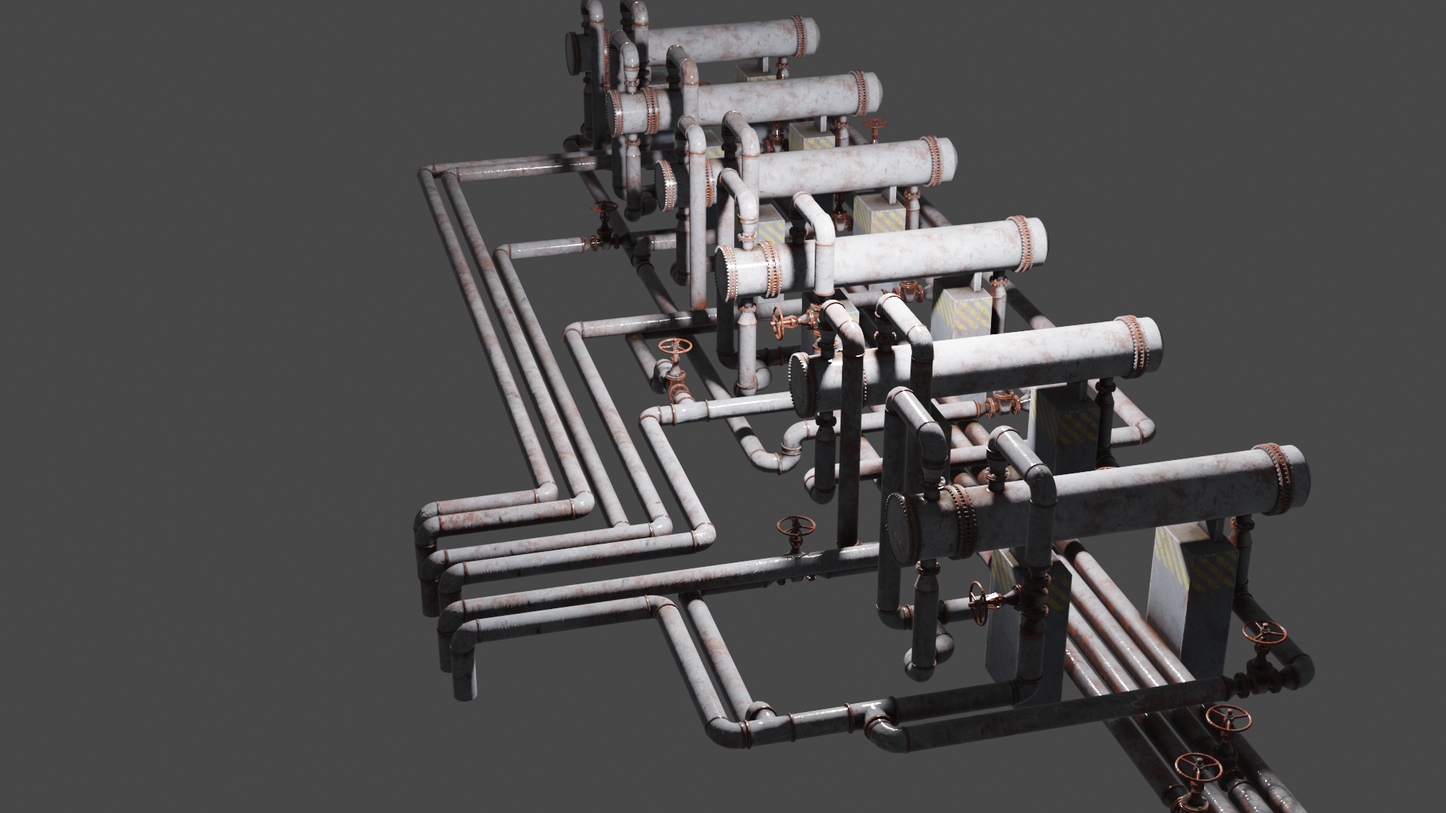HE_1: (560, 18, 822, 75)
HE_2: (602, 68, 888, 142)
HE_3: (651, 135, 960, 212)
HE_4: (716, 219, 1051, 298)
HE_5: (783, 312, 1165, 418)
HE_6: (881, 446, 1315, 566)
